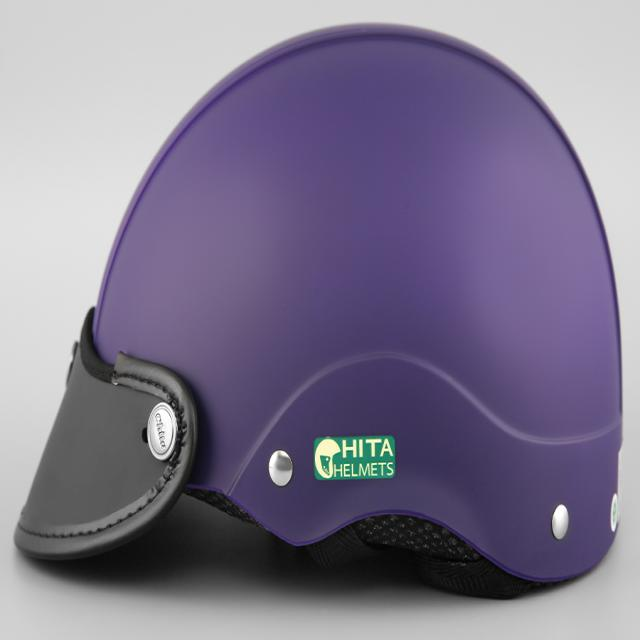Helmet: (13, 19, 625, 600)
